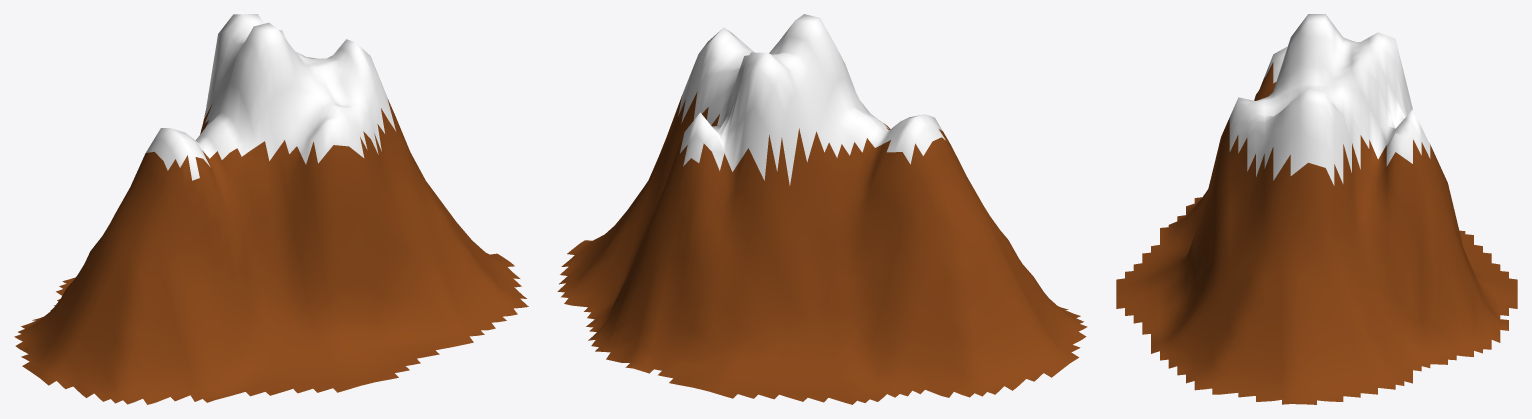
File: SM_Mountains_003.fbx
3 views of the same model, side by side, from view 1: azimuth 30°, elevation 25°; view 2: azimuth 150°, elevation 25°; view 3: azimuth 270°, elevation 25° (orthographic). The views are drawn at different scales.
Visible parts, largest first — view 1: Plane.001; view 2: Plane.001; view 3: Plane.001.
Boxes of the visible parts, box(x1,y1,x2,y2) form: Plane.001: box(14, 14, 528, 404); Plane.001: box(557, 14, 1087, 404); Plane.001: box(1116, 14, 1517, 404).
Bounding box in the file's own units: 3150 × 1810 × 2374.
